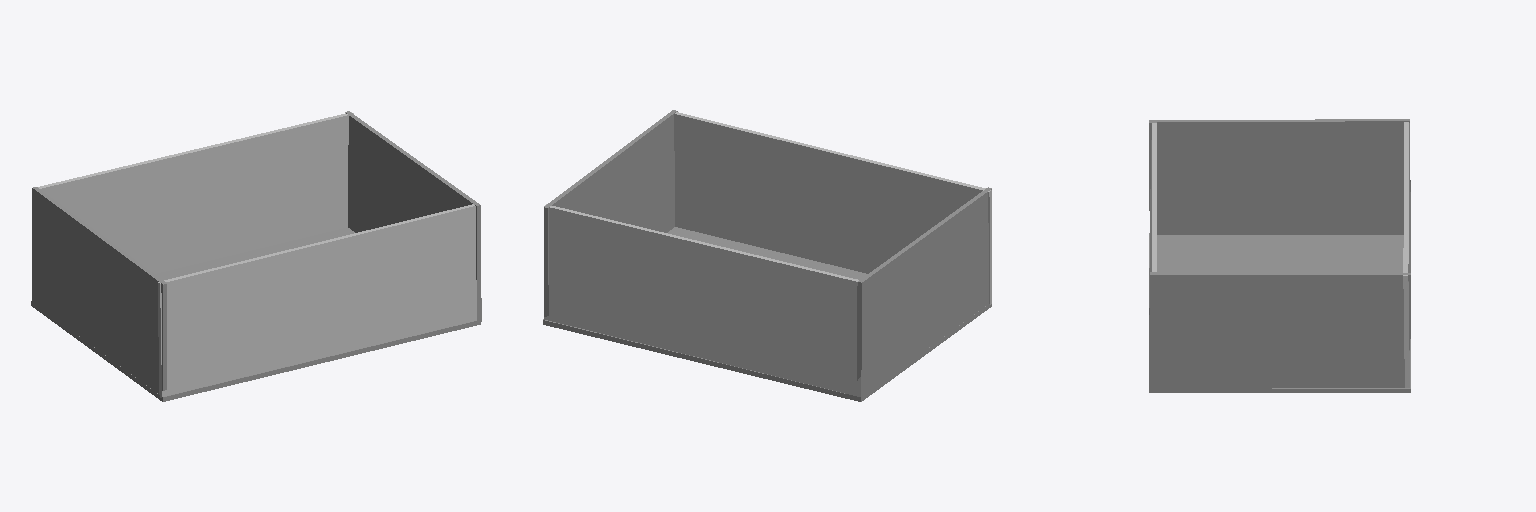
Rendered from room.obj.
3 views of the same model, side by side, from view 1: azimuth 30°, elevation 25°; view 2: azimuth 150°, elevation 25°; view 3: azimuth 270°, elevation 25° (orthographic).
Visible parts, largest first — view 1: Cube.001_Cube.009, Cube.002, Cube.003, Cube.004_Cube.010, Cube.001; view 2: Cube.002, Cube.001_Cube.009, Cube.003, Cube.004_Cube.010, Cube.001; view 3: Cube.004_Cube.010, Cube.003, Cube.001, Cube.002, Cube.001_Cube.009.
Part boxes in pixels (bbox=[...]): Cube.001_Cube.009: bbox=[158, 204, 476, 397]; Cube.002: bbox=[38, 112, 353, 273]; Cube.003: bbox=[32, 187, 166, 393]; Cube.004_Cube.010: bbox=[345, 111, 481, 322]; Cube.001: bbox=[31, 227, 480, 401]; Cube.002: bbox=[544, 204, 860, 396]; Cube.001_Cube.009: bbox=[674, 112, 991, 304]; Cube.003: bbox=[857, 187, 991, 399]; Cube.004_Cube.010: bbox=[544, 110, 677, 316]; Cube.001: bbox=[543, 227, 991, 401]; Cube.004_Cube.010: bbox=[1149, 272, 1410, 390]; Cube.003: bbox=[1149, 119, 1410, 234]; Cube.001: bbox=[1149, 233, 1410, 392]; Cube.002: bbox=[1403, 122, 1410, 387]; Cube.001_Cube.009: bbox=[1149, 123, 1156, 307].
Bounding box in the file's own units: 7.04 × 2.5 × 5.01.